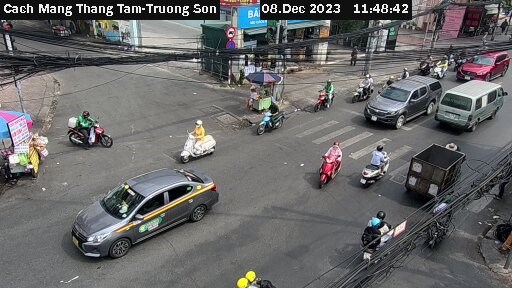car: (69, 163, 217, 251), (364, 78, 440, 130), (439, 77, 506, 126), (460, 47, 512, 82)
motorbike: (56, 109, 116, 149), (169, 122, 223, 163), (352, 210, 393, 263), (306, 144, 347, 188), (250, 100, 297, 137), (353, 145, 395, 186), (310, 75, 340, 111), (343, 73, 379, 103), (428, 57, 451, 78)
